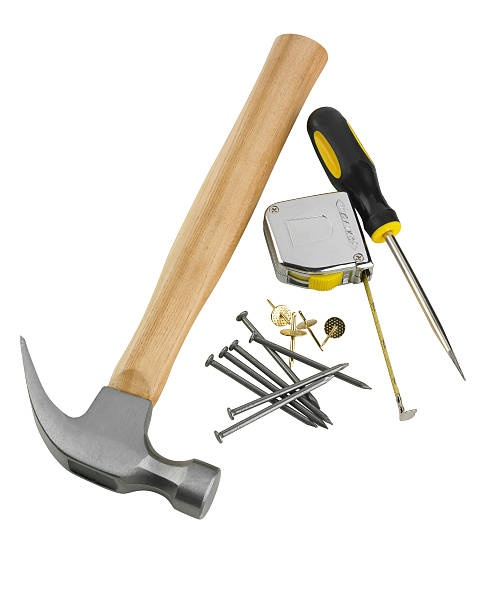hammer: (18, 103, 269, 520)
screwdriver: (305, 105, 469, 380)
